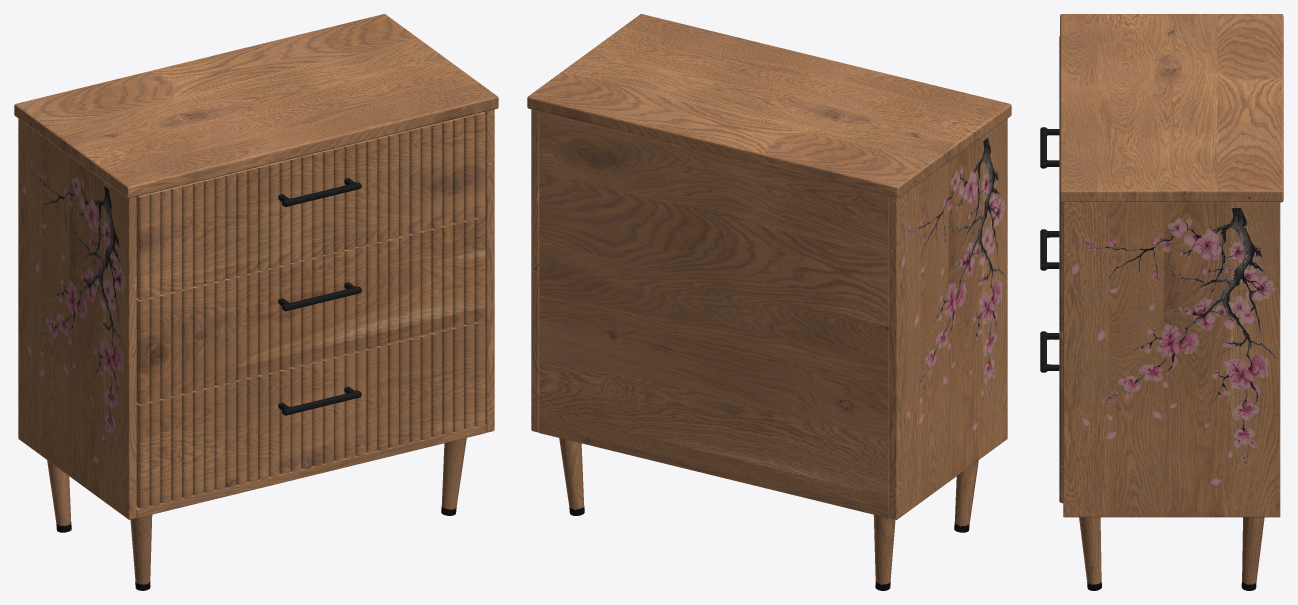
File: comoda_natural.glb
The picture shows the model from 3 angles, left to right: view 1: azimuth 30°, elevation 25°; view 2: azimuth 150°, elevation 25°; view 3: azimuth 270°, elevation 25°; orthographic projection. The views are drawn at different scales.
Parts seen in each view (by area): view 1: tampo, lateral_esq, frente_ripado_3, frente_ripado_2, frente_ripado_1, lateral_dir, fundo, pe_1_1, frente_tabua_3, pe_-1_1, pe_-1_-1, frente_tabua_2 (+4 smaller); view 2: costas, tampo, lateral_esq, lateral_dir, fundo, pe_1_-1, pe_-1_-1, pe_-1_1; view 3: lateral_dir, tampo, pe_1_1, pe_1_-1, frente_ripado_3, frente_ripado_2, frente_ripado_1, puxador_1, puxador_2, puxador_3.
Part boxes in pixels (<box>): tampo: <box>14,14,498,198</box>; lateral_esq: <box>18,118,136,519</box>; frente_ripado_3: <box>138,113,485,300</box>; frente_ripado_2: <box>138,218,485,404</box>; frente_ripado_1: <box>138,322,485,508</box>; lateral_dir: <box>484,109,494,432</box>; fundo: <box>136,424,486,517</box>; pe_1_1: <box>441,438,466,510</box>; frente_tabua_3: <box>136,112,484,298</box>; pe_-1_1: <box>130,514,152,585</box>; pe_-1_-1: <box>47,460,71,526</box>; frente_tabua_2: <box>136,217,484,403</box>; costas: <box>539,111,889,518</box>; tampo: <box>527,14,1011,198</box>; lateral_esq: <box>889,118,1007,519</box>; lateral_dir: <box>531,109,539,432</box>; fundo: <box>540,426,887,517</box>; pe_1_-1: <box>559,438,583,510</box>; pe_-1_-1: <box>873,515,895,585</box>; pe_-1_1: <box>954,460,978,526</box>; lateral_dir: <box>1063,202,1280,517</box>; tampo: <box>1060,14,1283,202</box>; pe_1_1: <box>1079,517,1101,584</box>; pe_1_-1: <box>1242,517,1264,584</box>; frente_ripado_3: <box>1059,36,1063,298</box>; frente_ripado_2: <box>1059,297,1063,401</box>; frente_ripado_1: <box>1059,400,1063,503</box>; puxador_1: <box>1040,331,1059,372</box>; puxador_2: <box>1040,229,1059,270</box>; puxador_3: <box>1040,127,1059,168</box>.
Size of the model in its own units: 0.812 by 0.8807 by 0.47.
5 materials, 2 textured.
